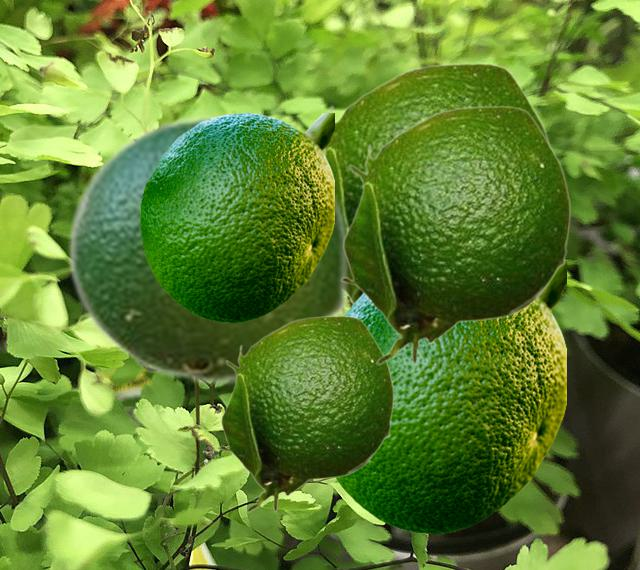dalandan: (67, 115, 350, 386), (334, 266, 565, 532), (339, 105, 570, 365), (308, 62, 550, 304), (140, 113, 333, 321), (218, 315, 393, 512)
